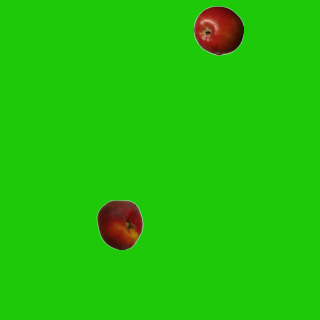Apple Braeburn: (193, 5, 243, 55)
Nectarine Flat: (94, 199, 144, 249)
